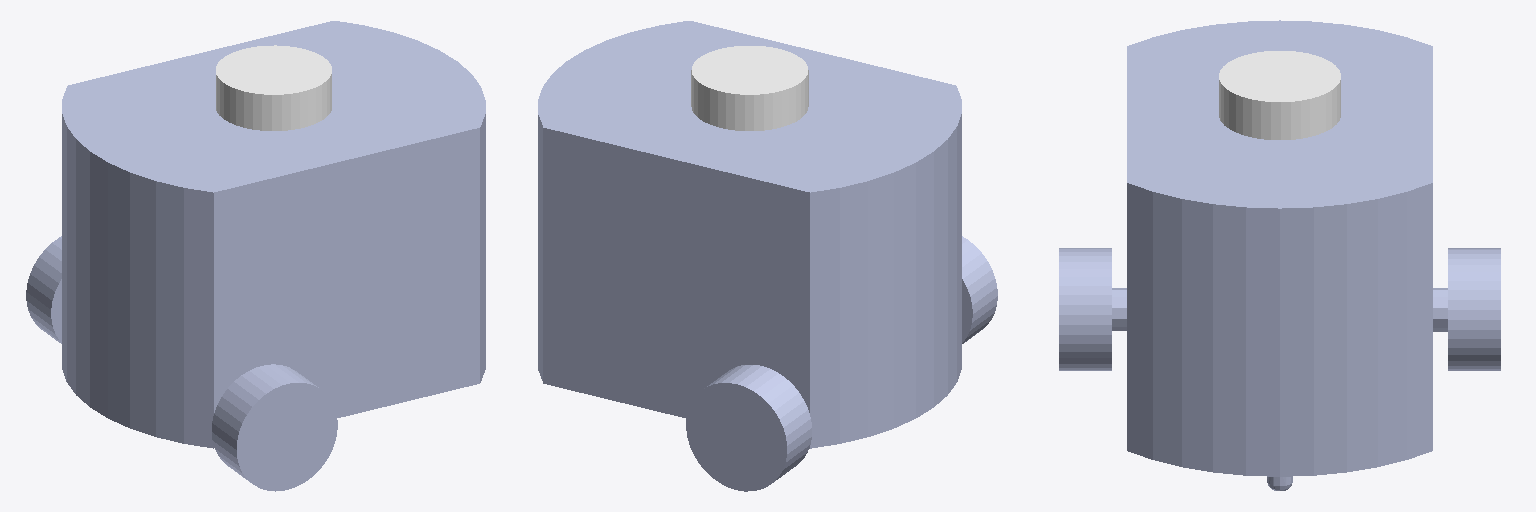
URDF robot description (two_wheel):
<?xml version="1.0"?>
<robot name="two_wheel">
  
  <link name="base_link">
  </link>
  
  <link name="chassis_link">
    <inertial>
      <origin xyz="-3.5993E-05 4.3657E-08 -0.08462" rpy="0 0 0" />
      <mass value="6.8782" />
      <inertia
        ixx="0.032633" ixy="1.906E-08" ixz="-9.8071E-06"
        iyy="0.048016" iyz="2.4155E-08" izz="0.047837" />
    </inertial>
    <visual>
      <origin xyz="0 0 0" rpy="0 0 0" />
      <geometry>
        <mesh filename="package://two_wheel/meshes/chassis_link.STL" />
      </geometry>
      <material name="">
        <color rgba="0.79216 0.81961 0.93333 1" />
      </material>
    </visual>
    <collision>
      <origin xyz="0 0 0" rpy="0 0 0" />
      <geometry>
        <mesh filename="package://two_wheel/meshes/chassis_link.STL" />
      </geometry>
    </collision>
  </link>
  
  <joint name="chassis_joint" type="fixed">
    <parent link="base_link"/>
    <child link="chassis_link"/>
    <origin xyz="0 0 0" rpy="0 0 0"/>
  </joint>

  <link name="right_wheel_link">
    <inertial>
      <origin xyz="0 6.9389E-18 -0.015" rpy="0 0 0" />
      <mass value="0.11545" />
      <inertia
        ixx="4.4017E-05" ixy="-2.068E-22" ixz="-6.8001E-20"
        iyy="4.4017E-05" iyz="-4.1219E-21" izz="7.0715E-05" />
    </inertial>
    <visual>
      <origin xyz="0 0 0" rpy="0 0 0" />
      <geometry>
        <mesh filename="package://two_wheel/meshes/right_wheel_link.STL" />
      </geometry>
      <material name="">
        <color rgba="0.79216 0.81961 0.93333 1" />
      </material>
    </visual>
    <collision>
      <origin xyz="0 0 0" rpy="0 0 0" />
      <geometry>
        <mesh filename="package://two_wheel/meshes/right_wheel_link.STL" />
      </geometry>
    </collision>
  </link>
  
  <joint name="right_wheel_joint" type="continuous">
    <origin xyz="-0.063509 -0.12592 -0.1525" rpy="1.5708 0 0" />
    <parent link="chassis_link" />
    <child link="right_wheel_link" />
    <axis xyz="0 0 -1" />
    <dynamics damping="0.1" friction="0.1" />
  </joint>
  
  <link name="left_wheel_link">
    <inertial>
      <origin xyz="0 1.3878E-17 0.015" rpy="0 0 0" />
      <mass value="0.11545" />
      <inertia
        ixx="4.4017E-05" ixy="7.6191E-22" ixz="3.1198E-20"
        iyy="4.4017E-05" iyz="-1.6665E-22" izz="7.0715E-05" />
    </inertial>
    <visual>
      <origin xyz="0 0 0" rpy="0 0 0" />
      <geometry>
        <mesh filename="package://two_wheel/meshes/left_wheel_link.STL" />
      </geometry>
      <material name="">
        <color rgba="0.79216 0.81961 0.93333 1" />
      </material>
    </visual>
    <collision>
      <origin xyz="0 0 0" rpy="0 0 0" />
      <geometry>
        <mesh filename="package://two_wheel/meshes/left_wheel_link.STL" />
      </geometry>
    </collision>
  </link>
  
  <joint name="left_wheel_joint" type="continuous">
    <origin xyz="-0.063509 0.12592 -0.1525" rpy="1.5708 0 0" />
    <parent link="chassis_link" />
    <child link="left_wheel_link" />
    <axis xyz="0 0 -1" />
    <dynamics damping="0.1" friction="0.1" />
  </joint>
  
  <link name="lidar_link">
    <inertial>
      <origin xyz="0 0 0" rpy="0 0 0" />
      <mass value="0.125" />
      <inertia
        ixx="0.001" ixy="0" ixz="0"
        iyy="0.001" iyz="0" izz="0.001" />
    </inertial>
    <visual>
      <origin xyz="0 0 0" rpy="0 0 0" />
      <geometry>
        <mesh filename="package://two_wheel/meshes/lidar_link.STL" />
      </geometry>
      <material name="">
        <color rgba="1 1 1 1" />
      </material>
    </visual>
    <collision>
      <origin xyz="0 0 0" rpy="0 0 0" />
      <geometry>
        <mesh filename="package://two_wheel/meshes/lidar_link.STL" />
      </geometry>
    </collision>
  </link>
  
  <joint name="lidar_joint" type="continuous">
    <origin xyz="0 0 0.024" rpy="0 0 0" />
    <parent link="chassis_link" />
    <child link="lidar_link" />
    <axis xyz="0 0 1" />
  </joint>

  <gazebo>
    <plugin name="differential_drive_controller" filename="libgazebo_ros_diff_drive.so">
      <update_rate>50</update_rate>
      <left_joint>left_wheel_joint</left_joint>
      <right_joint>right_wheel_joint</right_joint>
      <wheel_separation>0.22184</wheel_separation>
      <wheel_diameter>0.07</wheel_diameter>
      <max_wheel_torque>20</max_wheel_torque>
      <max_wheel_acceleration>1.0</max_wheel_acceleration>
      <publish_odom>true</publish_odom>
      <publish_odom_tf>true</publish_odom_tf>
      <publish_wheel_tf>false</publish_wheel_tf>
      <odometry_topic>odom</odometry_topic>
      <odometry_frame>odom</odometry_frame>
      <robot_base_frame>base_link</robot_base_frame>
    </plugin>
  </gazebo>

  <gazebo reference="chassis_link">
    <material>Gazebo/Blue</material>
    <mu1>0.2</mu1>
    <mu2>0.2</mu2>
  </gazebo>

  <gazebo reference="right_wheel_link">
    <material>Gazebo/Grey</material>
    <mu1>1.0</mu1>
    <mu2>1.0</mu2>
    <kp>1000000.0</kp>
    <kd>100.0</kd>
    <minDepth>0.001</minDepth>
    <maxVel>1.0</maxVel>
  </gazebo>

  <gazebo reference="left_wheel_link">
    <material>Gazebo/Grey</material>
    <mu1>1.0</mu1>
    <mu2>1.0</mu2>
    <kp>1000000.0</kp>
    <kd>100.0</kd>
    <minDepth>0.001</minDepth>
    <maxVel>1.0</maxVel>
  </gazebo>

  <gazebo reference="lidar_link">
    <material>Gazebo/White</material>
  </gazebo>

  <gazebo reference="lidar_link">
    <sensor type="ray" name="lidar_sensor">
      <pose>0 0 0 0 0 0</pose>
      <visualize>true</visualize>
      <update_rate>10</update_rate>
      <ray>
        <scan>
          <horizontal>
            <samples>360</samples>
            <resolution>1</resolution>
            <min_angle>-3.14159</min_angle>
            <max_angle>3.14159</max_angle>
          </horizontal>
        </scan>
        <range>
          <min>0.12</min>
          <max>10.0</max>
          <resolution>0.01</resolution>
        </range>
        <noise>
          <type>gaussian</type>
          <mean>0.0</mean>
          <stddev>0.01</stddev>
        </noise>
      </ray>
      <plugin name="gazebo_ros_lidar_controller" filename="libgazebo_ros_ray_sensor.so">
        <output_type>sensor_msgs/LaserScan</output_type>
        <frame_name>lidar_link</frame_name>
        <topic_name>/scan</topic_name>
      </plugin>
    </sensor>
  </gazebo>

</robot>

--- What the picture shows (computed from the rendered views, not written in the file) ---
The picture shows the robot from 3 angles, left to right: view 1: azimuth 30°, elevation 25°; view 2: azimuth 150°, elevation 25°; view 3: azimuth 270°, elevation 25°; orthographic projection.
Robot: two_wheel — 5 links, 4 joints (3 continuous, 1 fixed); root link base_link; default pose: every joint at zero.
Visible links, largest first — view 1: chassis_link, right_wheel_link, lidar_link, left_wheel_link; view 2: chassis_link, left_wheel_link, lidar_link, right_wheel_link; view 3: chassis_link, lidar_link, right_wheel_link, left_wheel_link.
Boxes of the visible links, x1,y1,x2,y2 form: chassis_link: (62,21,485,448); right_wheel_link: (212,364,337,491); lidar_link: (216,45,331,130); left_wheel_link: (26,236,61,343); chassis_link: (538,21,961,448); left_wheel_link: (686,365,811,491); lidar_link: (691,46,808,130); right_wheel_link: (962,236,997,343); chassis_link: (1112,20,1447,490); lidar_link: (1219,51,1340,139); right_wheel_link: (1059,248,1111,370); left_wheel_link: (1448,248,1500,370).
Bounding box of the posed robot: 0.254 × 0.2518 × 0.2115 m (x, y, z).
Meshes: 4 distinct files referenced, 4 mesh visuals loaded (4 binary STL).
